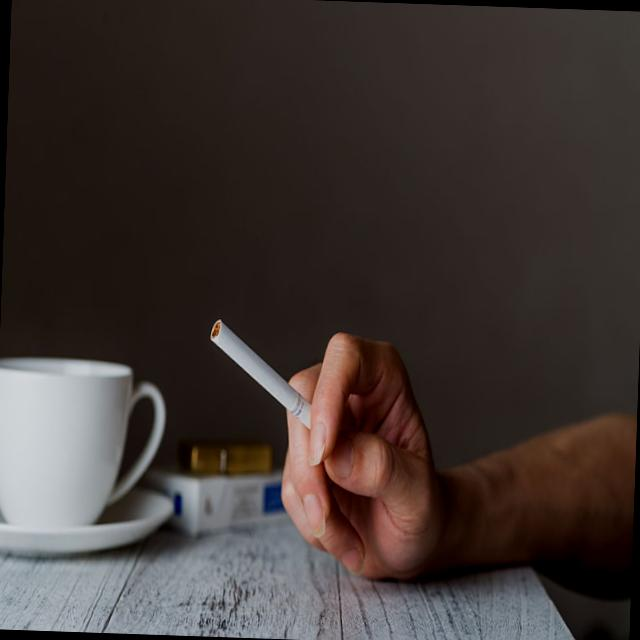cigarette: (204, 318, 315, 426)
